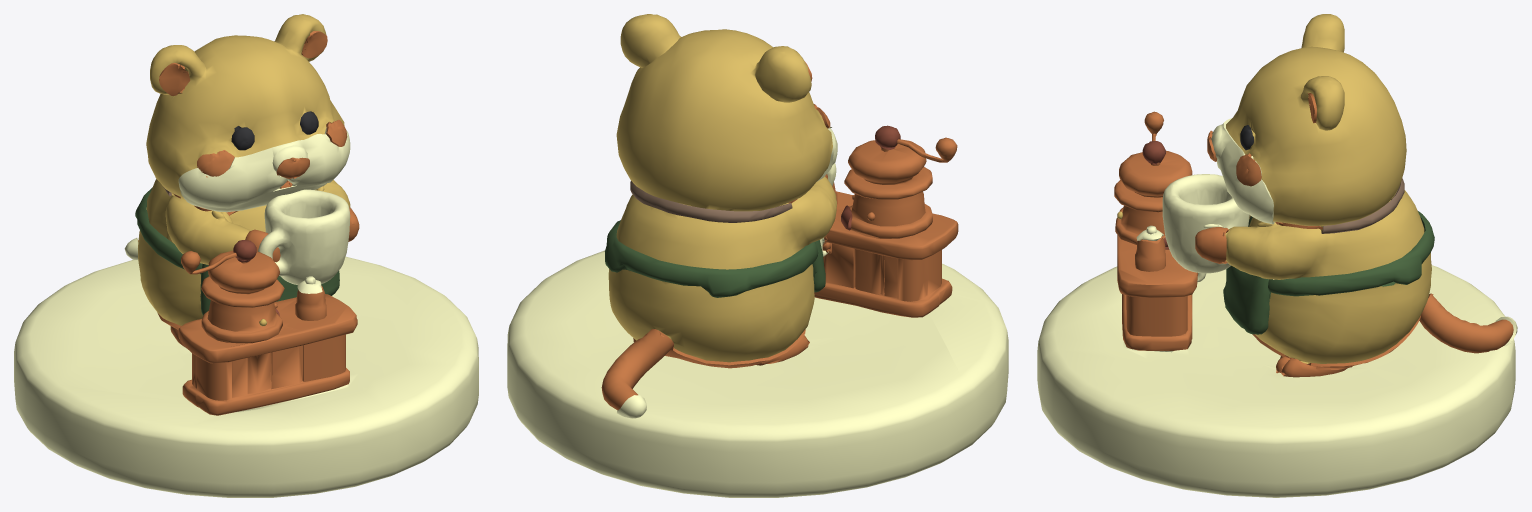
Rendered from HamsterBarista.fbx.
3 renders of one model, left to right at view 1: azimuth 30°, elevation 25°; view 2: azimuth 150°, elevation 25°; view 3: azimuth 270°, elevation 25°, orthographic. The views are drawn at different scales.
Visible parts, largest first — view 1: S_HamsterBarista, M_HamsterBarista, D_HamsterBarista_4, D_HamsterBarista_3; view 2: S_HamsterBarista; view 3: S_HamsterBarista, M_HamsterBarista, D_HamsterBarista_5.
Part boxes in pixels (bbox=[...]): S_HamsterBarista: bbox=[14, 14, 478, 497]; M_HamsterBarista: bbox=[258, 189, 350, 284]; D_HamsterBarista_4: bbox=[197, 150, 234, 177]; D_HamsterBarista_3: bbox=[301, 31, 327, 58]; S_HamsterBarista: bbox=[507, 14, 1008, 497]; S_HamsterBarista: bbox=[1037, 14, 1517, 497]; M_HamsterBarista: bbox=[1162, 174, 1249, 273]; D_HamsterBarista_5: bbox=[1236, 153, 1261, 186].
Bounding box in the file's own units: 610 × 508 × 610.
